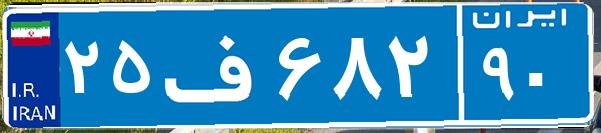0: (525, 38, 570, 115)
2: (385, 28, 445, 110), (57, 26, 110, 107)
5: (110, 28, 158, 105)
6: (273, 28, 330, 110)
8: (330, 28, 385, 110)
9: (475, 38, 525, 113)
ف: (158, 15, 273, 115)
